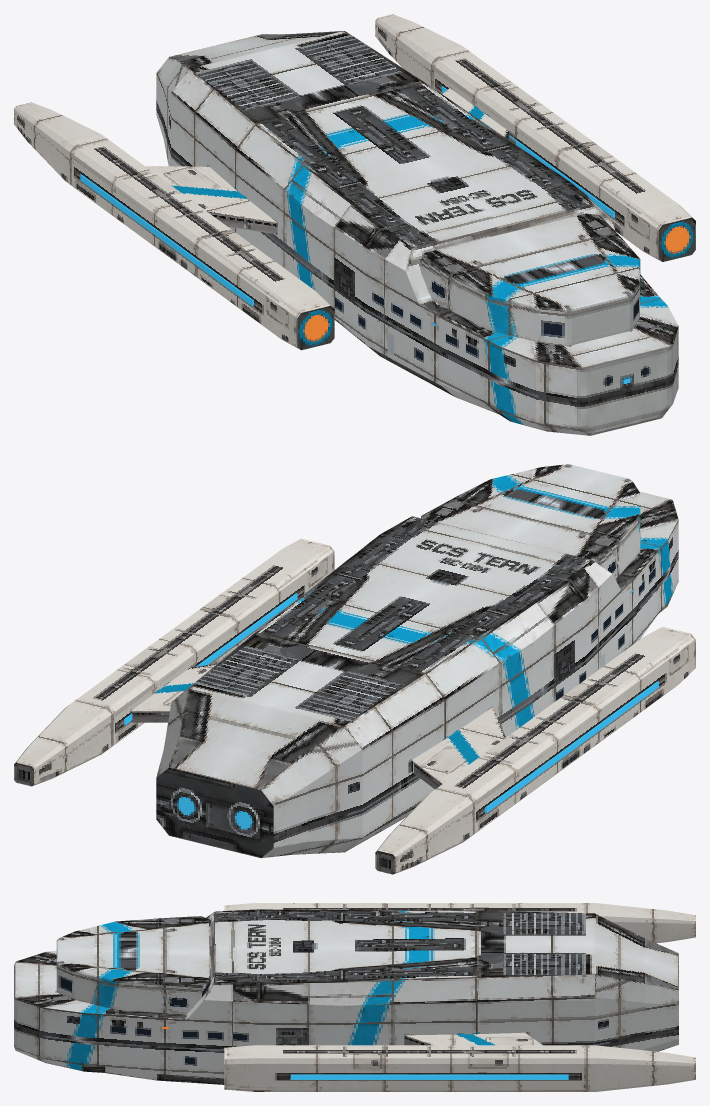
The model's file is tern_lod2.glb.
3 renders of one model, top to bottom at view 1: azimuth 30°, elevation 25°; view 2: azimuth 150°, elevation 25°; view 3: azimuth 270°, elevation 25°, orthographic. The views are drawn at different scales.
Parts seen in each view (by area): view 1: tern_lod2; view 2: tern_lod2; view 3: tern_lod2.
Boxes of the visible parts, box(x1,y1,x2,y2) form: tern_lod2: box(14, 14, 695, 435); tern_lod2: box(14, 464, 695, 874); tern_lod2: box(14, 903, 695, 1091).
Bounding box in the file's own units: 45 × 14 × 81.
Materials: 1 (1 with a texture image).
